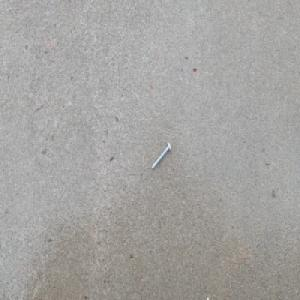Nail: (151, 141, 172, 170)
